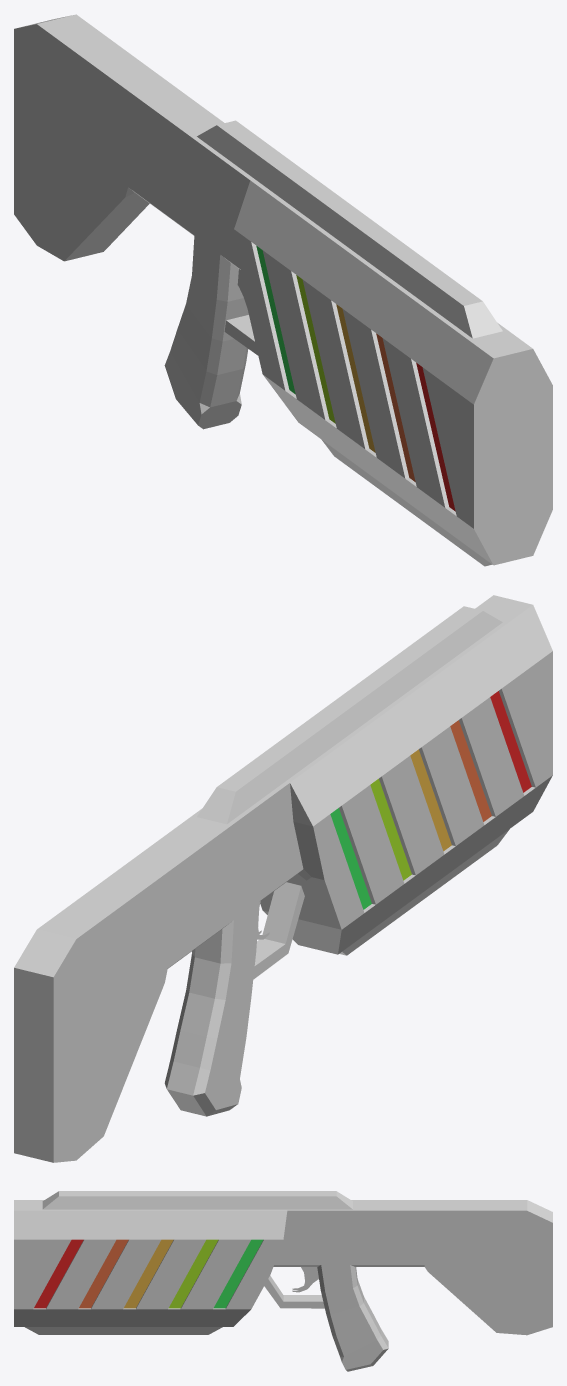
File: PLH_Protogun_Gun.fbx
The picture shows the model from 3 angles, top to bottom: view 1: azimuth 30°, elevation 25°; view 2: azimuth 150°, elevation 25°; view 3: azimuth 270°, elevation 25°; orthographic projection. The views are drawn at different scales.
Visible parts, largest first — view 1: MSH_GUN; view 2: MSH_GUN; view 3: MSH_GUN.
Boxes of the visible parts, box(x1,y1,x2,y2) form: MSH_GUN: box(14, 14, 552, 566); MSH_GUN: box(14, 595, 552, 1162); MSH_GUN: box(14, 1191, 552, 1371).
Size of the model in its own units: 4 by 15 by 42.
